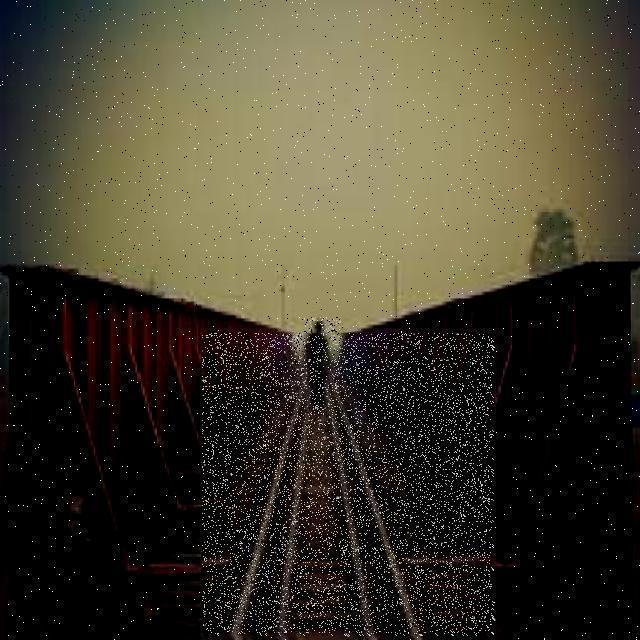rail: (204, 334, 494, 636)
